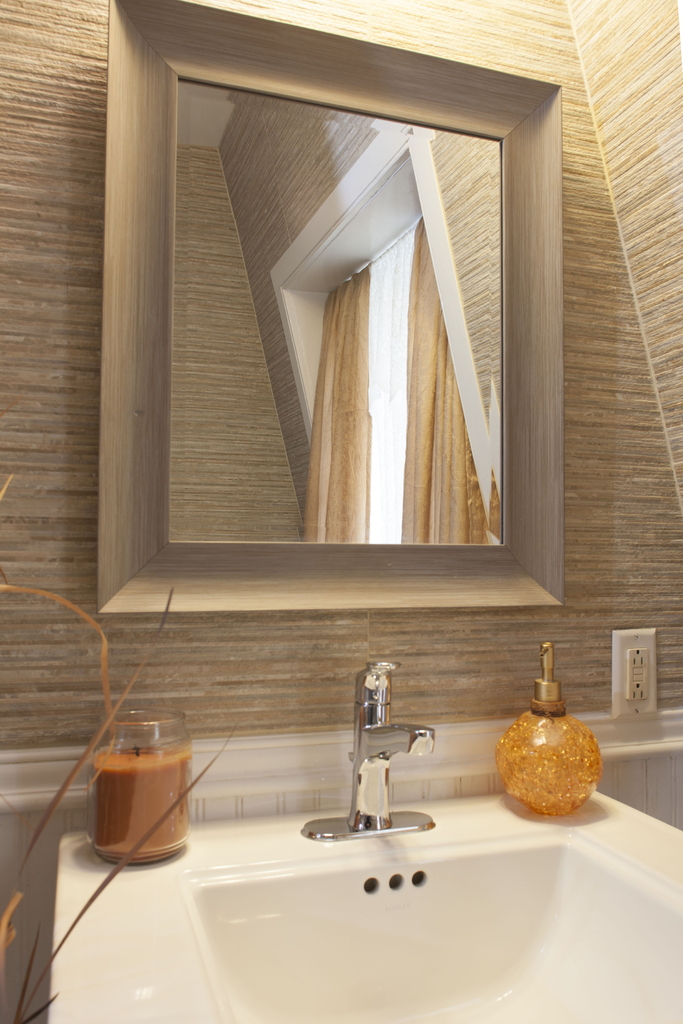tap: (348, 657, 437, 833)
